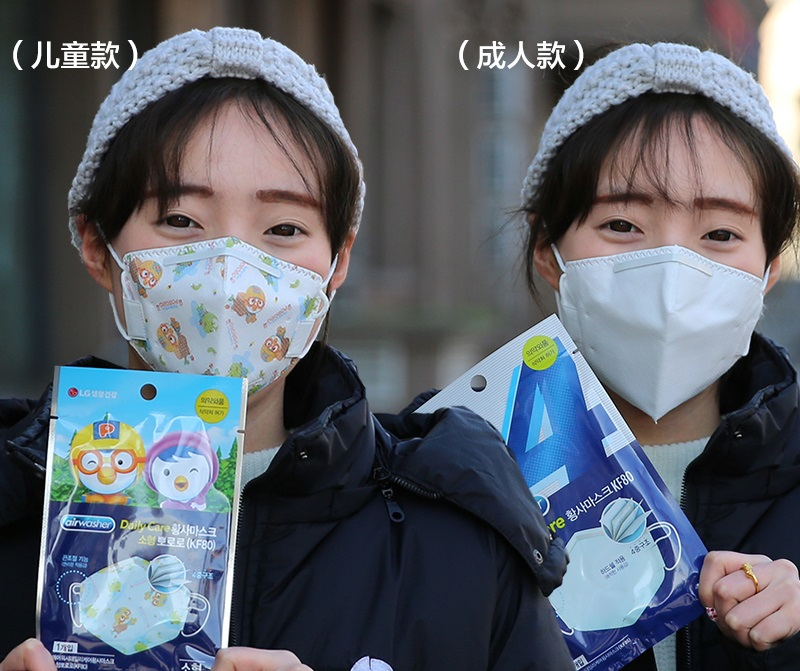face_mask: (110, 108, 332, 377), (558, 124, 769, 367)
